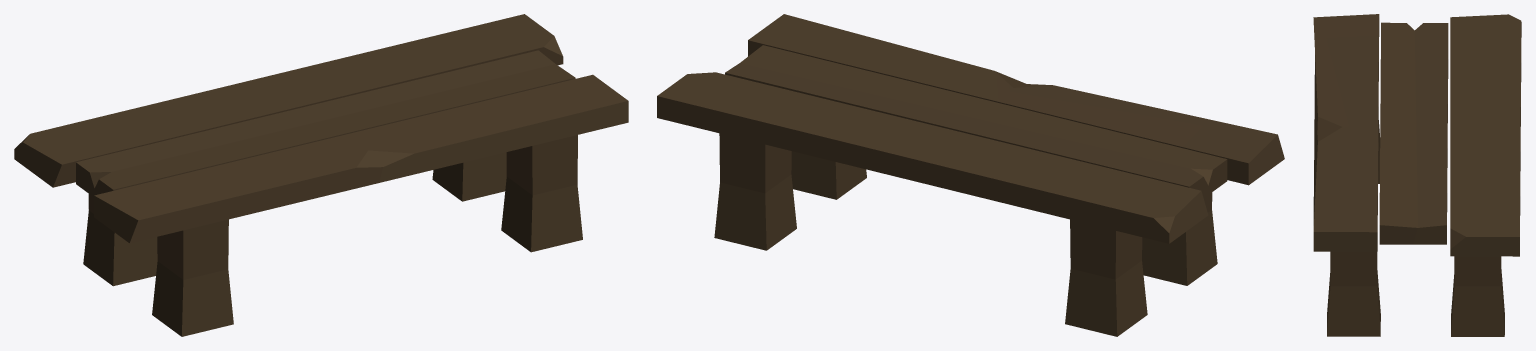
File: Benchlong chair_1.fbx
The picture shows the model from 3 angles, left to right: view 1: azimuth 30°, elevation 25°; view 2: azimuth 150°, elevation 25°; view 3: azimuth 270°, elevation 25°; orthographic projection. The views are drawn at different scales.
Visible parts, largest first — view 1: Benchlong chair_1; view 2: Benchlong chair_1; view 3: Benchlong chair_1.
Part boxes in pixels (x1,y1,x2,y2): Benchlong chair_1: (14,14,628,336); Benchlong chair_1: (657,14,1284,336); Benchlong chair_1: (1313,14,1521,336).
Bounding box in the file's own units: 219 × 55.49 × 86.25.
